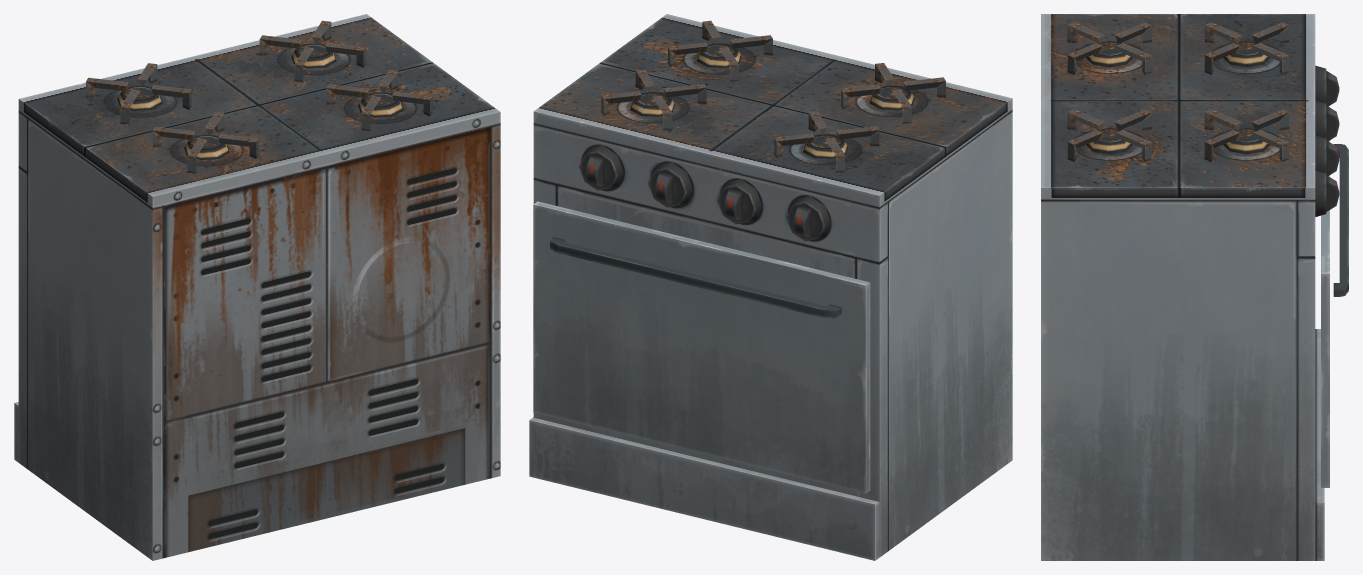
Rendered from KTB0110016.fbx.
The picture shows the model from 3 angles, left to right: view 1: azimuth 30°, elevation 25°; view 2: azimuth 150°, elevation 25°; view 3: azimuth 270°, elevation 25°; orthographic projection. The views are drawn at different scales.
Visible parts, largest first — view 1: smKTB0110016; view 2: smKTB0110016; view 3: smKTB0110016.
Part boxes in pixels (x1,y1,x2,y2): smKTB0110016: (14,14,500,560); smKTB0110016: (529,14,1012,560); smKTB0110016: (1041,14,1348,560).
Bounding box in the file's own units: 90 × 94.16 × 67.32.
1 material, 1 textured.
